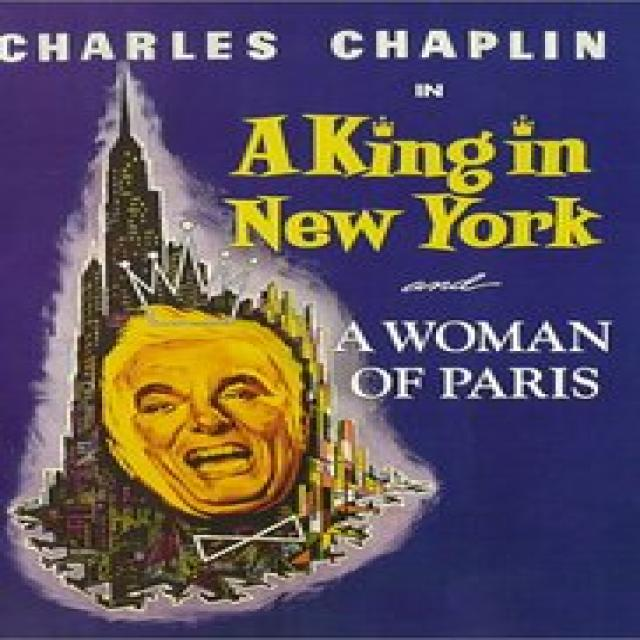movie-judul: (216, 100, 640, 444)
picture: (104, 304, 348, 555)
